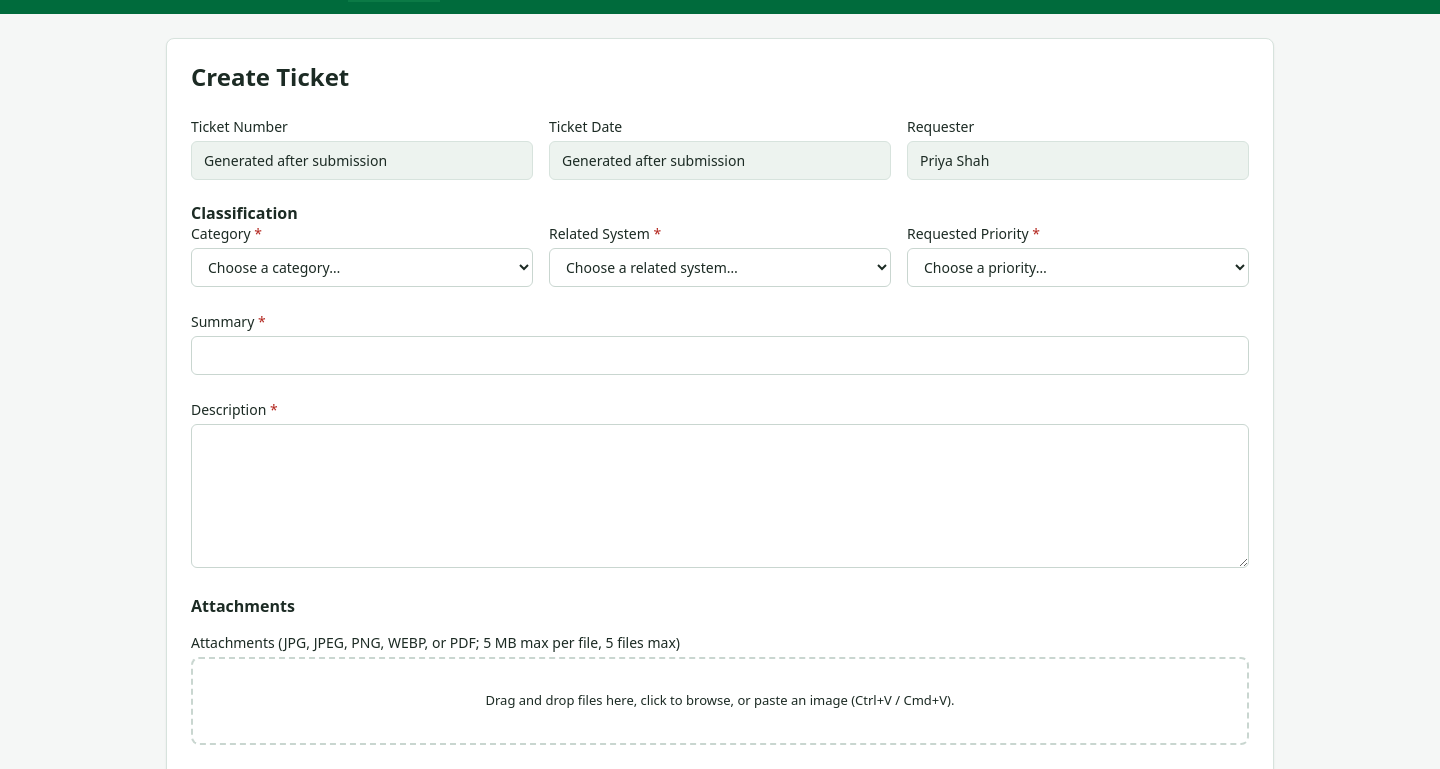
UI-08 (AC-01): success › shows the generated Ticket Number after a successful submit
Select "Hardware" in the dropdown labelled "Category *": (362, 268) x1=191 y1=248 x2=533 y2=287
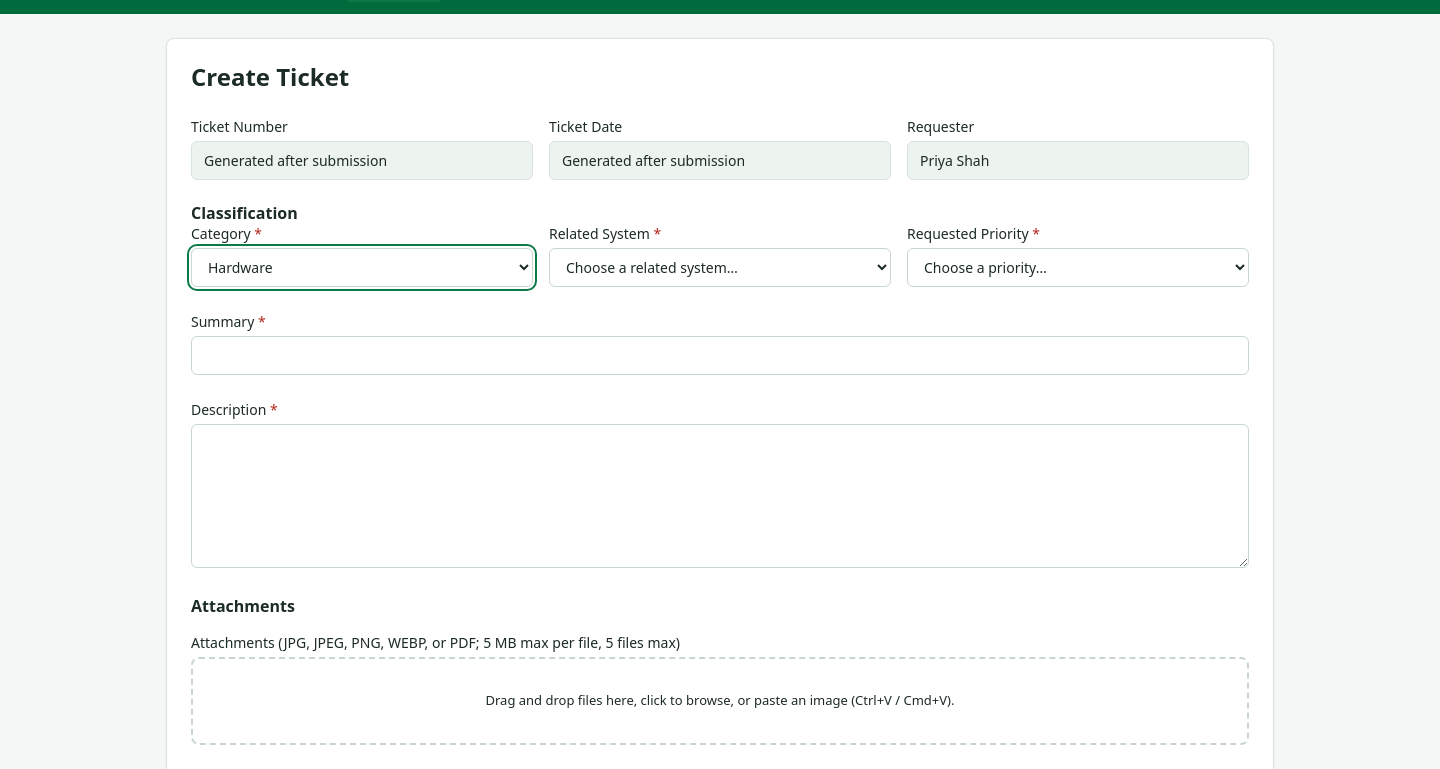
Select "Corporate Laptop" in the dropdown labelled "Related System *": (720, 268) x1=549 y1=248 x2=891 y2=287
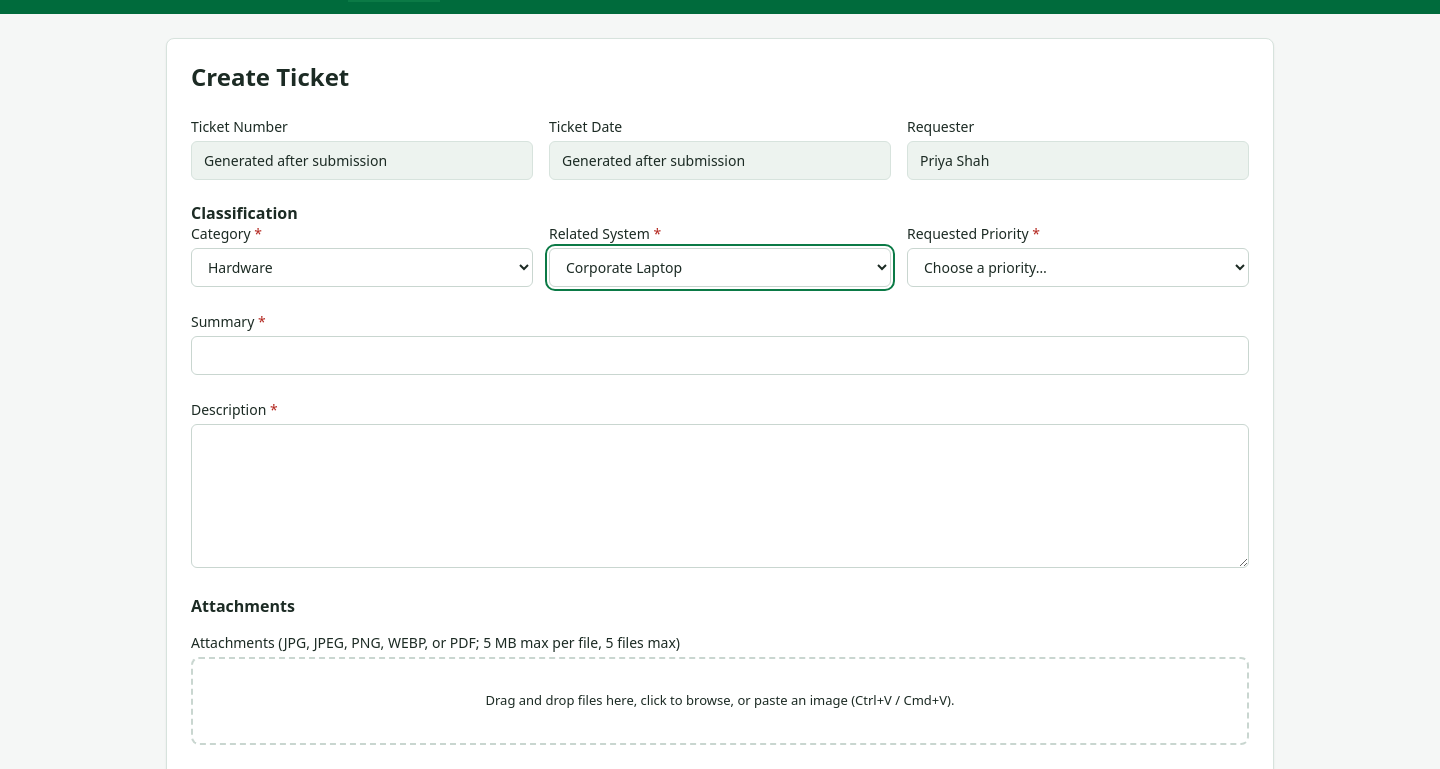
Select "Medium" in the dropdown labelled "Requested Priority *": (1078, 268) x1=907 y1=248 x2=1249 y2=287
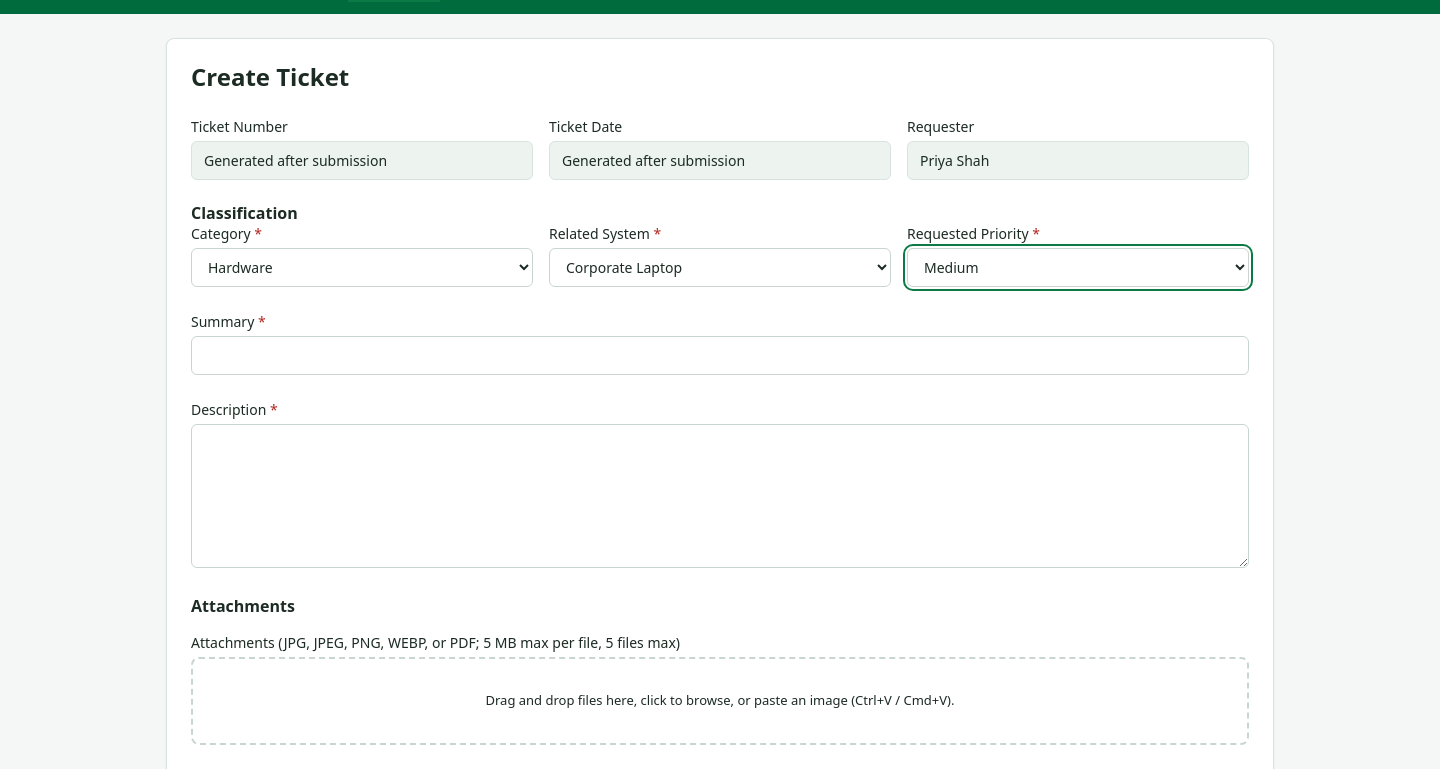
In the field labelled "Summary *": (720, 356) x1=191 y1=336 x2=1249 y2=375, type "Laptop battery drains quickly"
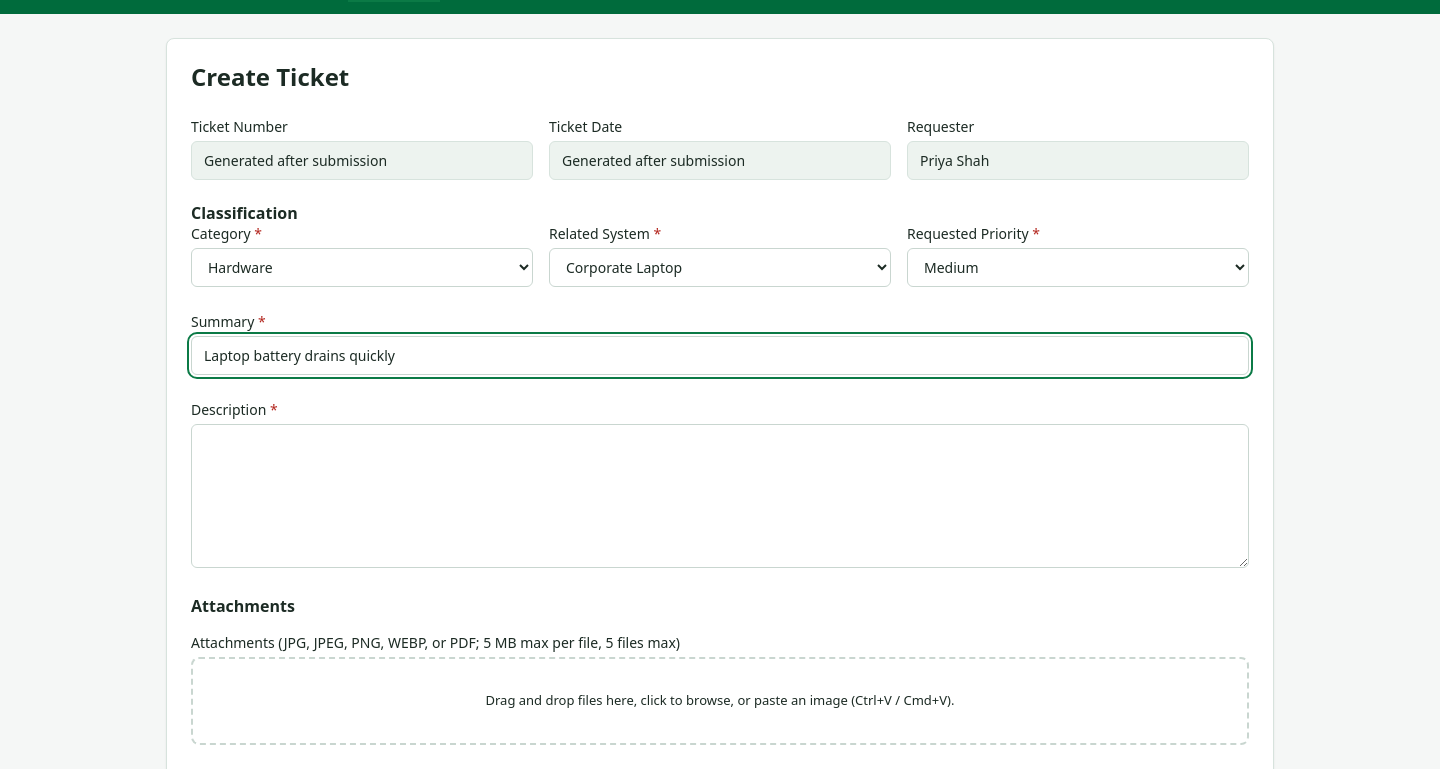
In the text box labelled "Description *": (720, 496) x1=191 y1=424 x2=1249 y2=568, type "My laptop battery drains much faster than usual now."
(page scrolled)
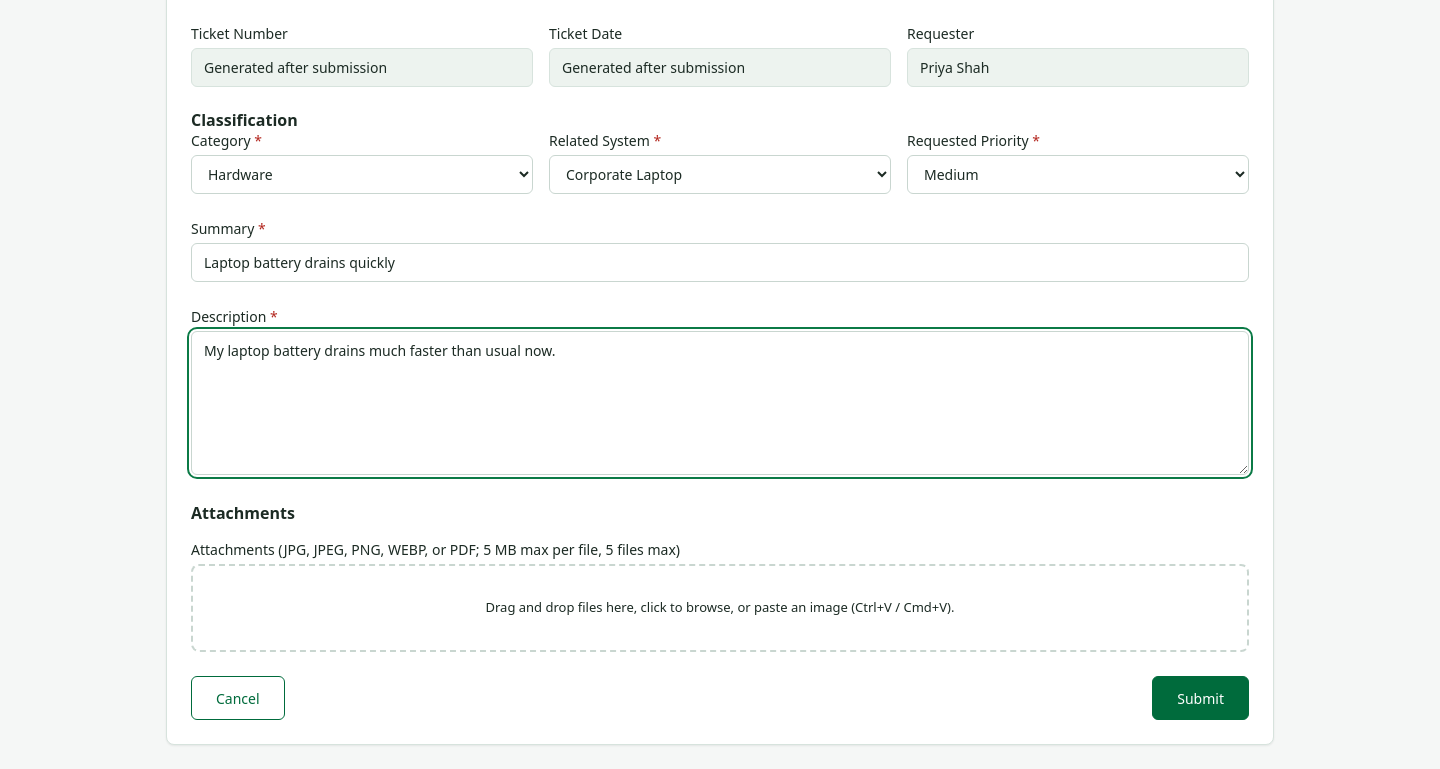
Click the button "Submit": (1201, 698) x1=1152 y1=676 x2=1249 y2=720
(page scrolled)
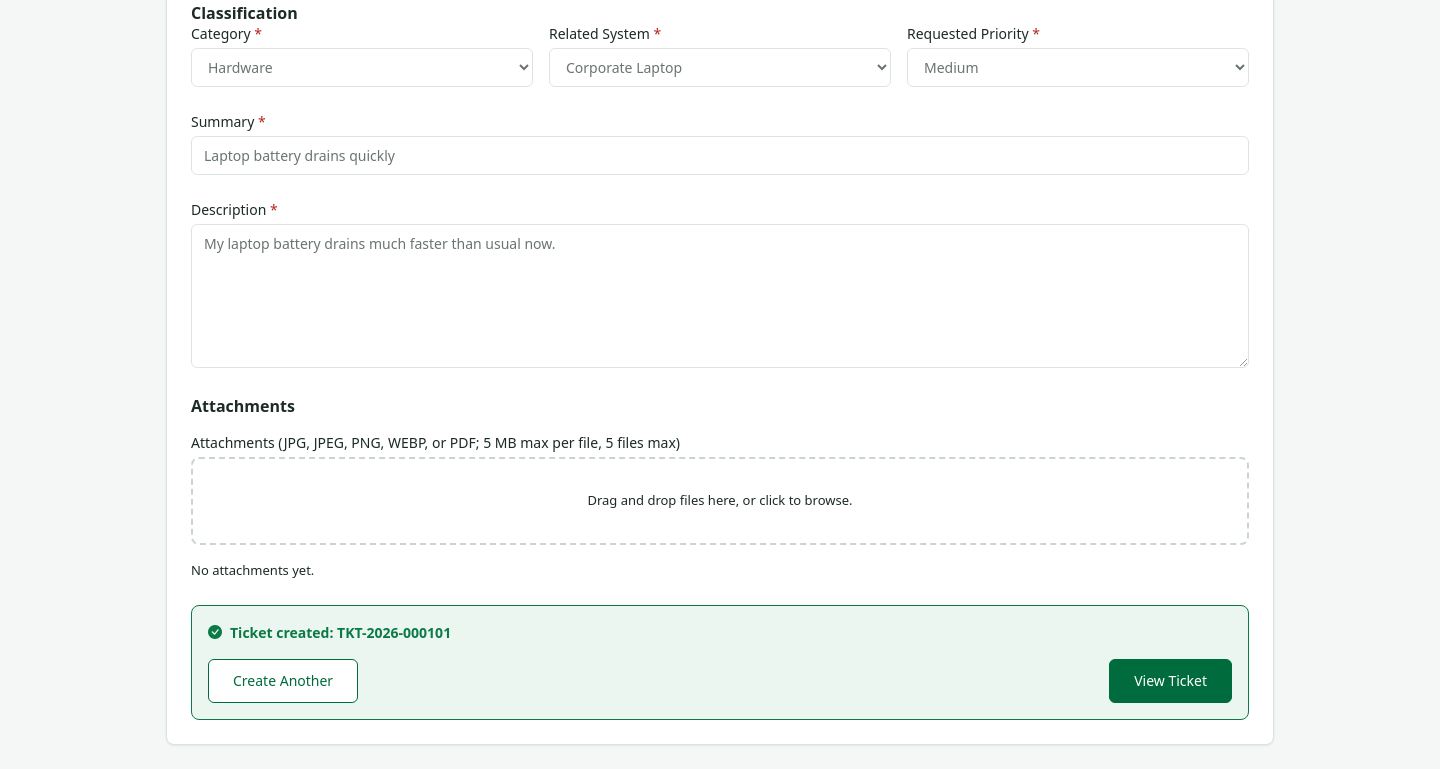
Result: the text "Ticket created: TKT-2026-000101" is shown at x1=208 y1=623 x2=451 y2=642
Result: the link "View Ticket" is shown at x1=1109 y1=659 x2=1232 y2=703
Result: the button "Create Another" is shown at x1=208 y1=659 x2=358 y2=703
